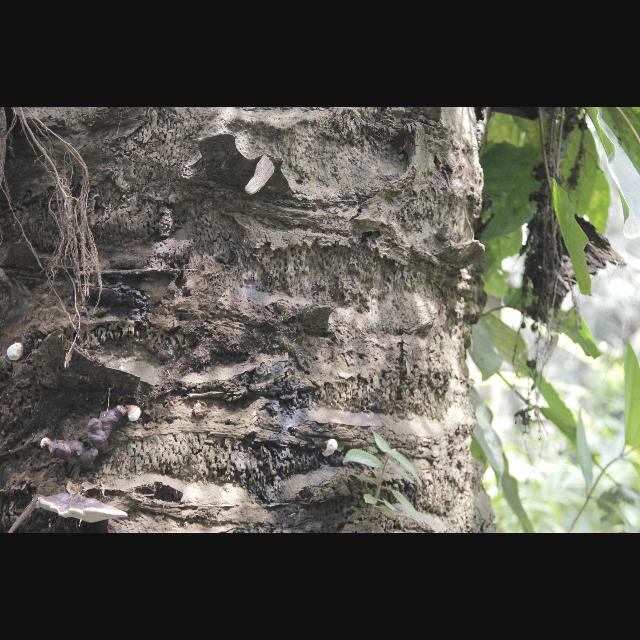ganoderma: (51, 406, 127, 472), (36, 494, 128, 525)
primordium: (7, 344, 25, 362), (322, 440, 339, 459), (128, 405, 143, 423), (41, 438, 51, 450)
